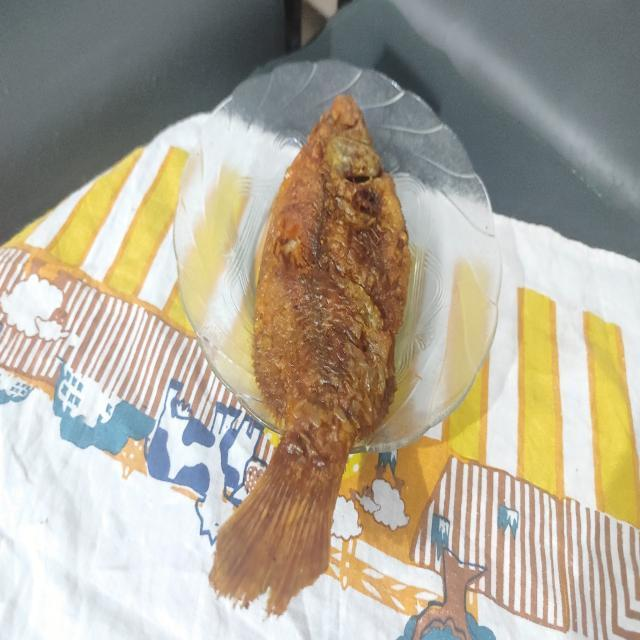ikan_mujair: (210, 96, 410, 615)
